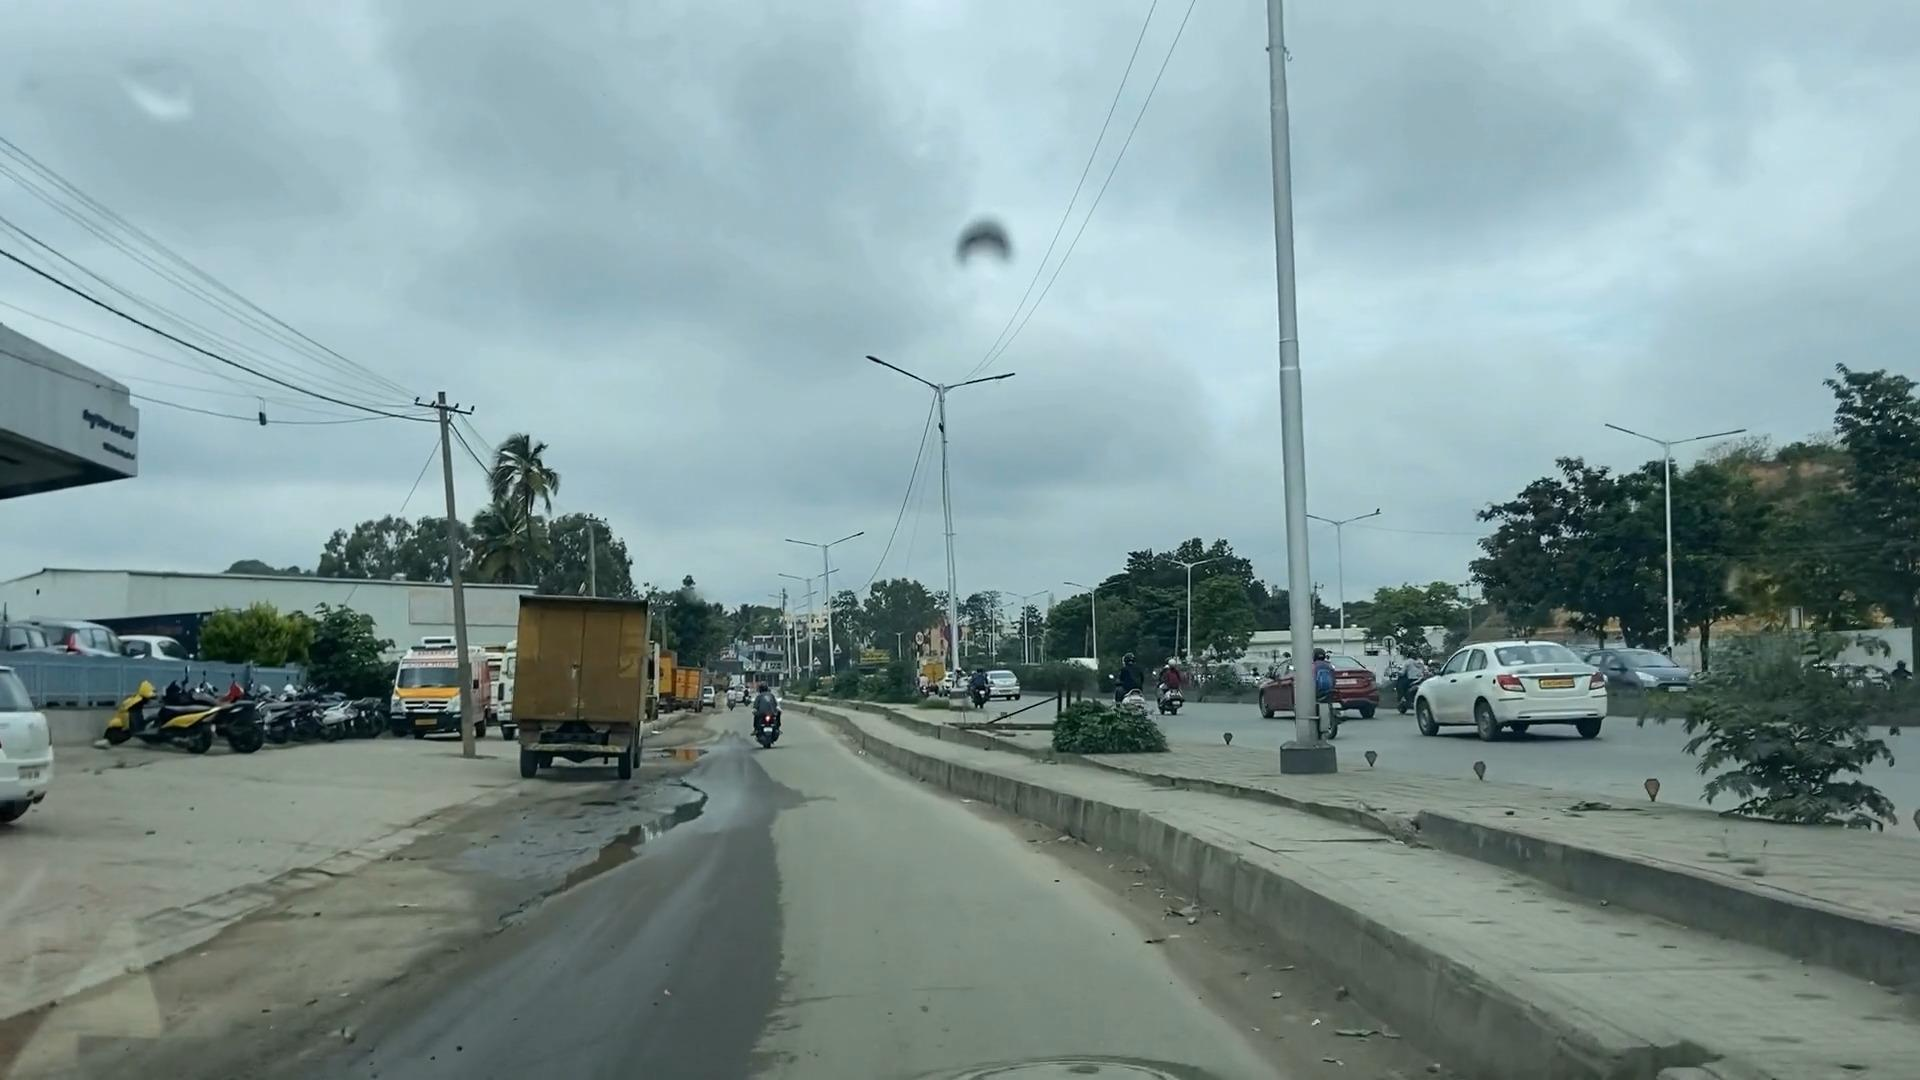HMV: (517, 596, 642, 771)
RoadDamages: (936, 1040, 1197, 1080)
